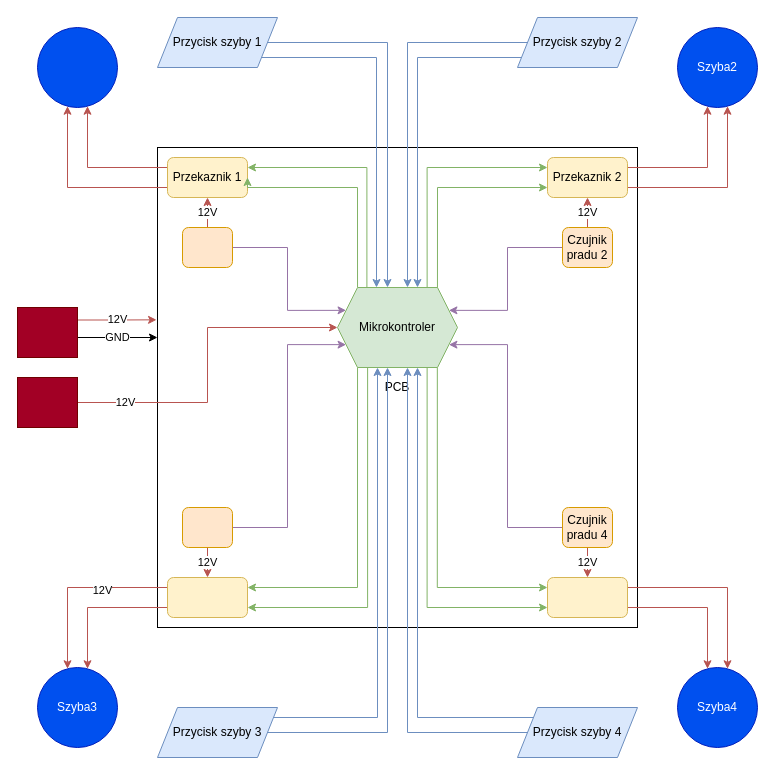
Some shapes in this 775 by 775 pixel diagram are drawn without their labels. The centre of each missing label's shape, as x and y in pixels:
"Czujnik pradu 1" goes at pixel 207 247.
"Czujnik pradu 3" goes at pixel 207 527.
"Przekaznik 3" goes at pixel 207 597.
"Przekaznik 4" goes at pixel 587 597.
"Szyba1" goes at pixel 77 67.
"Zapłon" goes at pixel 47 402.
"Zasilanie" goes at pixel 47 332.
